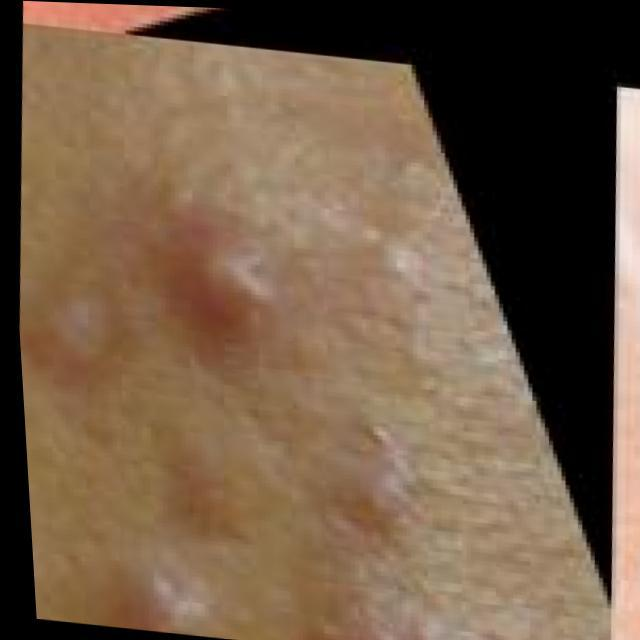cyst: (188, 248, 274, 329), (130, 573, 184, 629), (56, 314, 112, 361), (346, 474, 392, 513)
